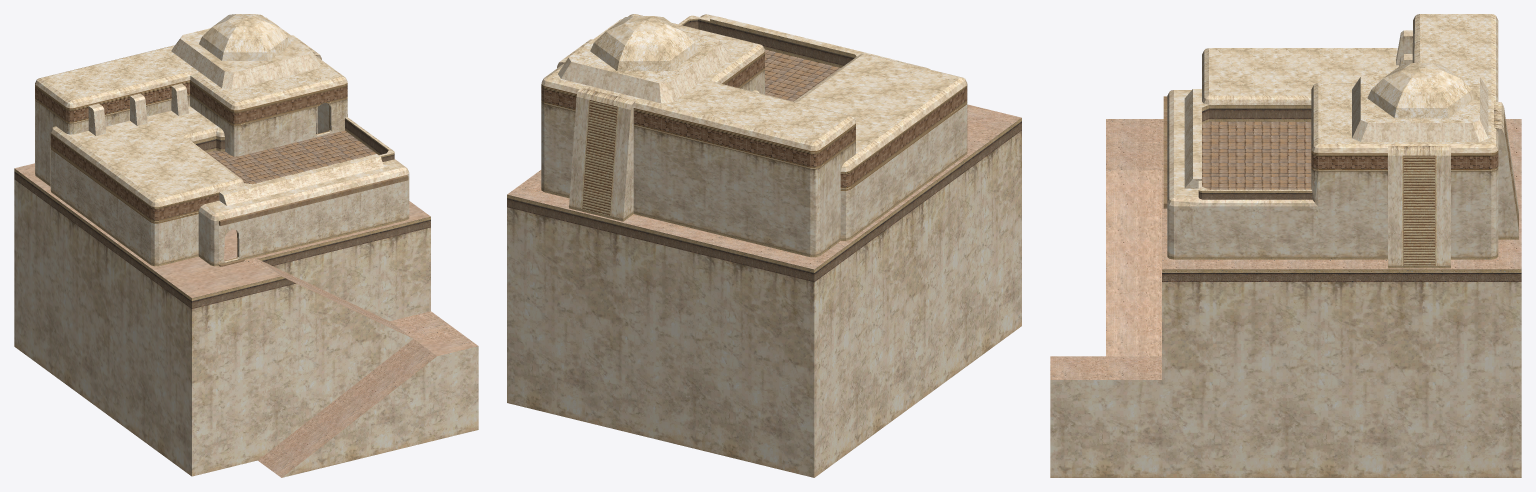
Rendered from ply_tato_house_m_s01_fp1_r0_mesh_l1.fbx.
3 renders of one model, left to right at view 1: azimuth 30°, elevation 25°; view 2: azimuth 150°, elevation 25°; view 3: azimuth 270°, elevation 25°, orthographic. The views are drawn at different scales.
Visible parts, largest first — view 1: mesh_node; view 2: mesh_node; view 3: mesh_node.
Part boxes in pixels (bbox=[...]): mesh_node: bbox=[14, 14, 478, 477]; mesh_node: bbox=[507, 14, 1021, 477]; mesh_node: bbox=[1050, 14, 1521, 477].
Size of the model in its own units: 25.47 by 29.03 by 33.78.
